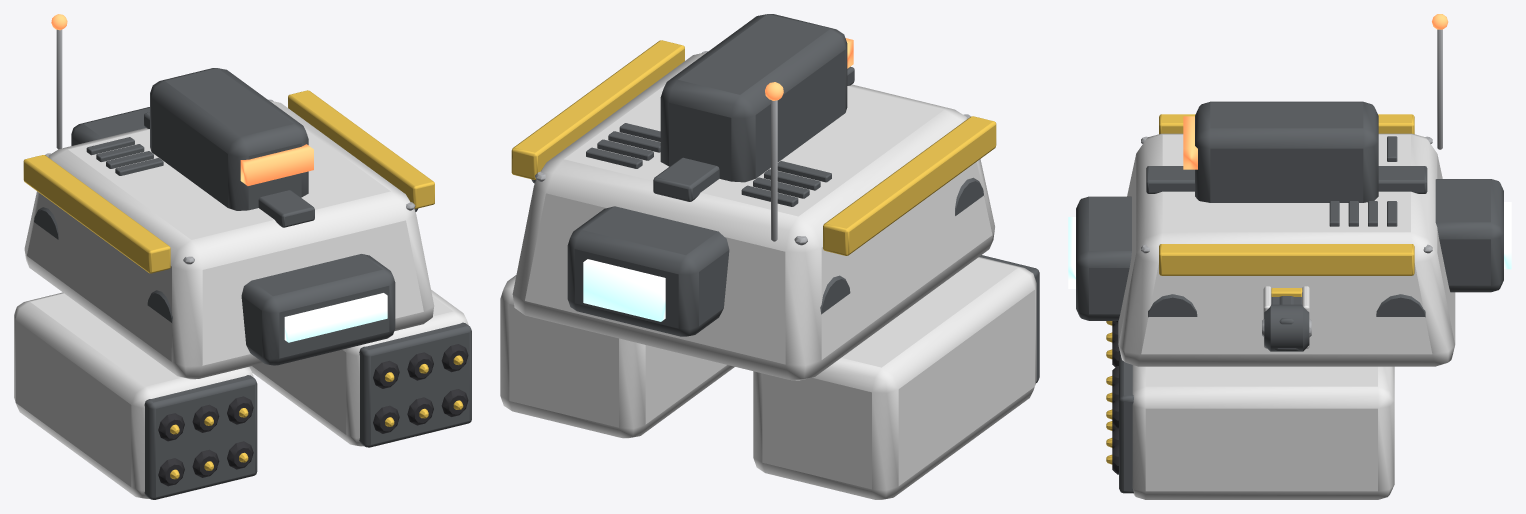
The model's file is missile.glb.
The picture shows the model from 3 angles, left to right: view 1: azimuth 30°, elevation 25°; view 2: azimuth 150°, elevation 25°; view 3: azimuth 270°, elevation 25°; orthographic projection. The views are drawn at different scales.
Visible parts, largest first — view 1: Hull, Barrel, Turret; view 2: Hull, Barrel, Turret; view 3: Hull, Barrel, Turret, LegUpper, LegLower.
Part boxes in pixels (<box>): Hull: <box>23,14,434,379</box>; Barrel: <box>14,289,471,499</box>; Turret: <box>150,68,313,210</box>; Hull: <box>511,40,996,380</box>; Barrel: <box>500,255,1039,499</box>; Turret: <box>660,14,853,182</box>; Hull: <box>1068,14,1511,366</box>; Barrel: <box>1106,321,1394,499</box>; Turret: <box>1183,101,1378,202</box>; LegUpper: <box>1262,286,1311,351</box>; LegLower: <box>1271,288,1302,350</box>.
Bounding box in the file's own units: 0.6425 × 0.6285 × 0.694.
